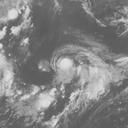cyclone: (50, 45, 117, 97)
